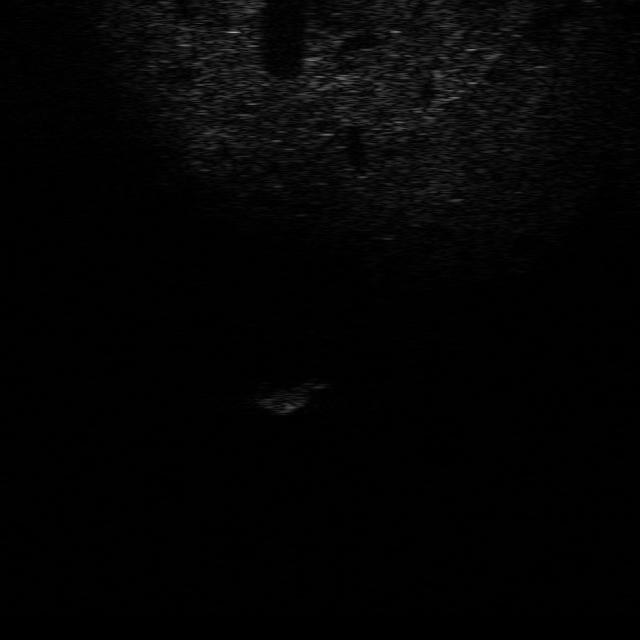cube: (255, 377, 330, 415)
